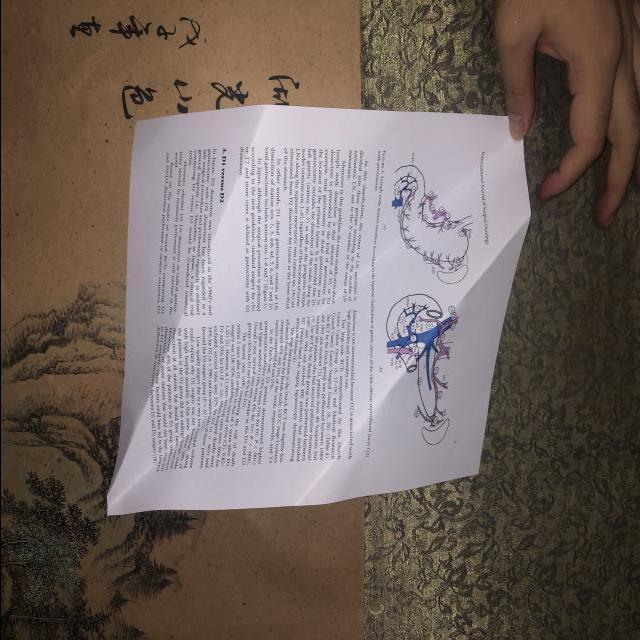kertas: (105, 98, 534, 535)
